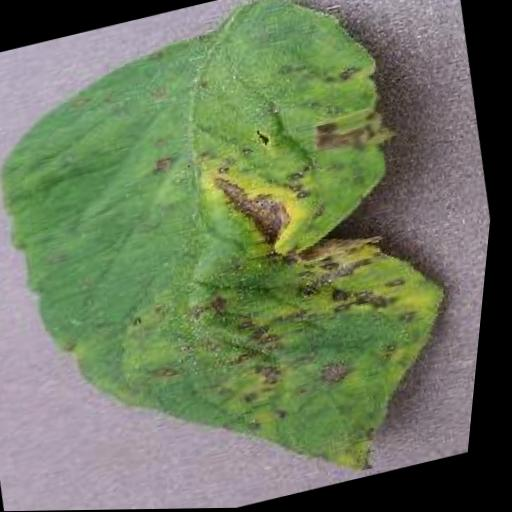Septoria: (0, 0, 502, 512)
